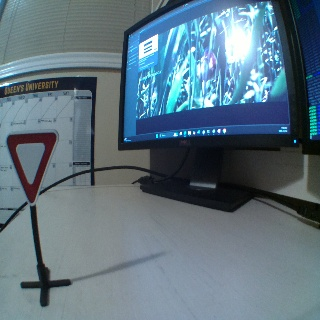sign_yield: (3, 133, 64, 204)
